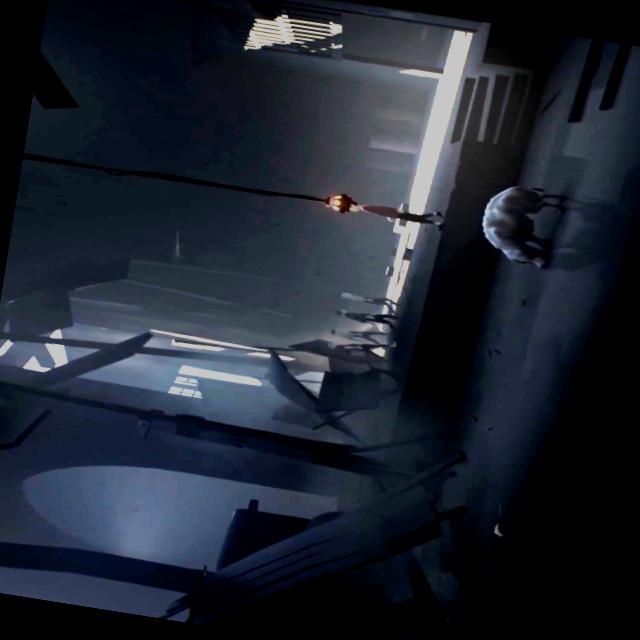boy: (347, 198, 447, 232)
zombie: (327, 324, 397, 350), (333, 306, 402, 330), (338, 290, 402, 314), (325, 341, 391, 359)
